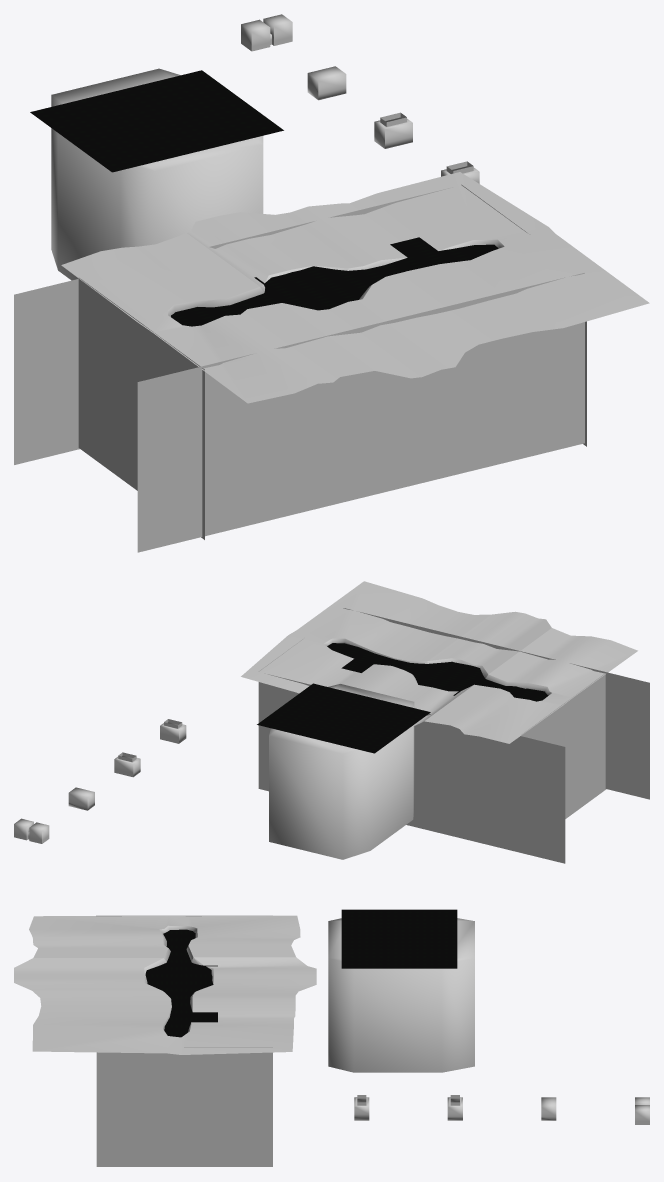
The model's file is DryLagoon.obj.
3 views of the same model, one above another, from view 1: azimuth 30°, elevation 25°; view 2: azimuth 150°, elevation 25°; view 3: azimuth 270°, elevation 25° (orthographic). The views are drawn at different scales.
Size of the model in its own units: 3458 by 1362 by 5057.
